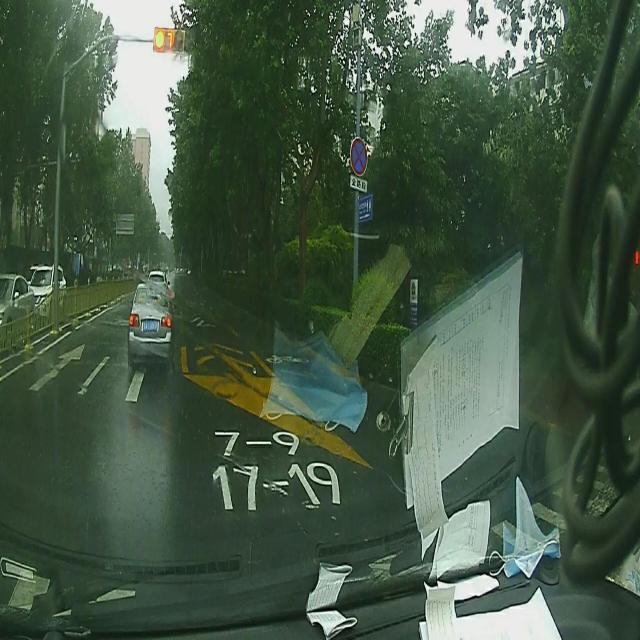car: (128, 280, 170, 358), (1, 274, 36, 346), (29, 266, 70, 318)
